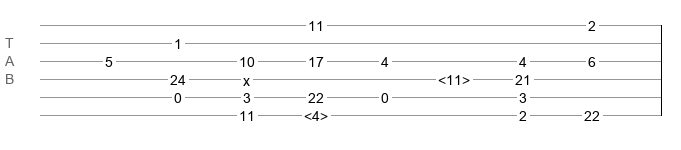0: (174, 90, 182, 100), (381, 90, 389, 100)
1: (174, 36, 182, 46)
10: (239, 54, 255, 64)
11: (239, 108, 255, 118), (308, 18, 324, 28)
17: (308, 54, 324, 64)
2: (519, 108, 527, 118), (588, 18, 596, 28)
21: (515, 72, 531, 82)
22: (308, 90, 324, 100), (584, 108, 600, 118)
24: (170, 72, 186, 82)
3: (243, 90, 251, 100), (519, 90, 527, 100)
4: (381, 54, 389, 64), (519, 54, 527, 64)
5: (105, 54, 113, 64)
6: (588, 54, 596, 64)
harmonic: (438, 72, 470, 82), (304, 108, 328, 118)
x: (243, 73, 250, 81)
